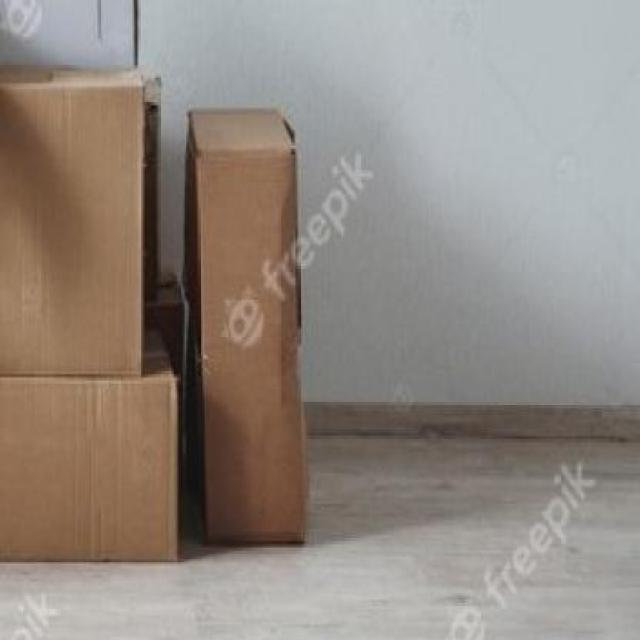box: (183, 97, 319, 577), (0, 65, 165, 387), (0, 368, 186, 578)
